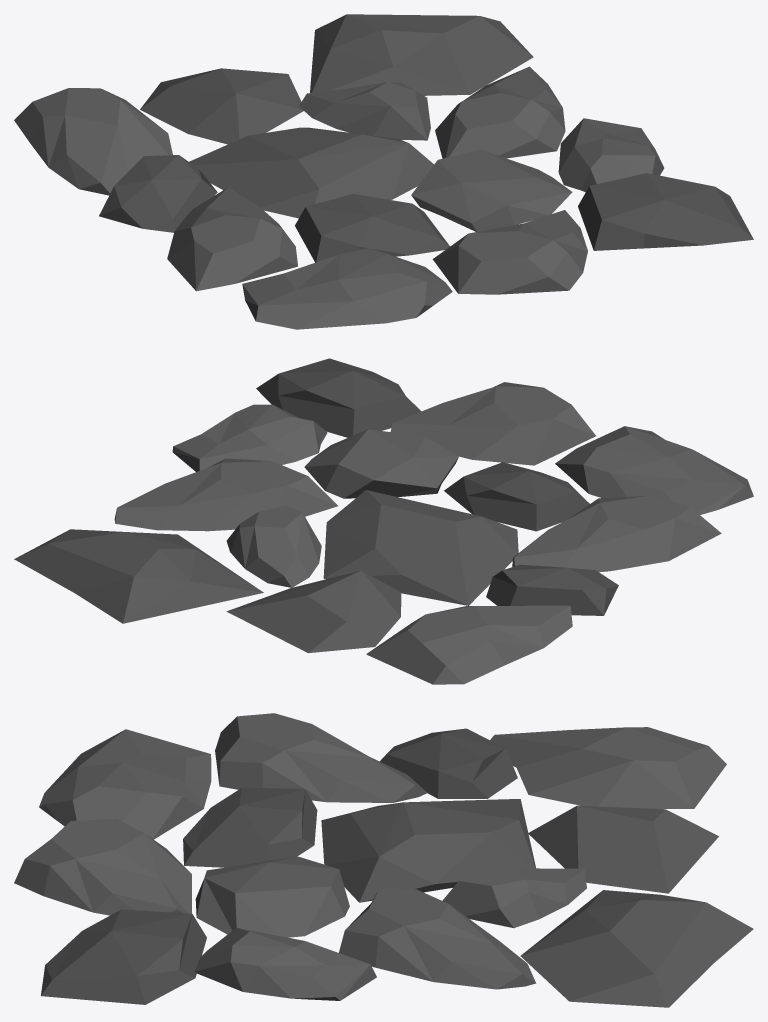
File: road_stone_short.fbx
The picture shows the model from 3 angles, top to bottom: view 1: azimuth 30°, elevation 25°; view 2: azimuth 150°, elevation 25°; view 3: azimuth 270°, elevation 25°; orthographic projection. The views are drawn at different scales.
Parts seen in each view (by area): view 1: road_stone_short; view 2: road_stone_short; view 3: road_stone_short.
Boxes of the visible parts, x1=… form: road_stone_short: x1=14, y1=14, x2=753, y2=329; road_stone_short: x1=14, y1=358, x2=753, y2=684; road_stone_short: x1=14, y1=713, x2=753, y2=1007.
Size of the model in its own units: 147 by 10.44 by 167.
